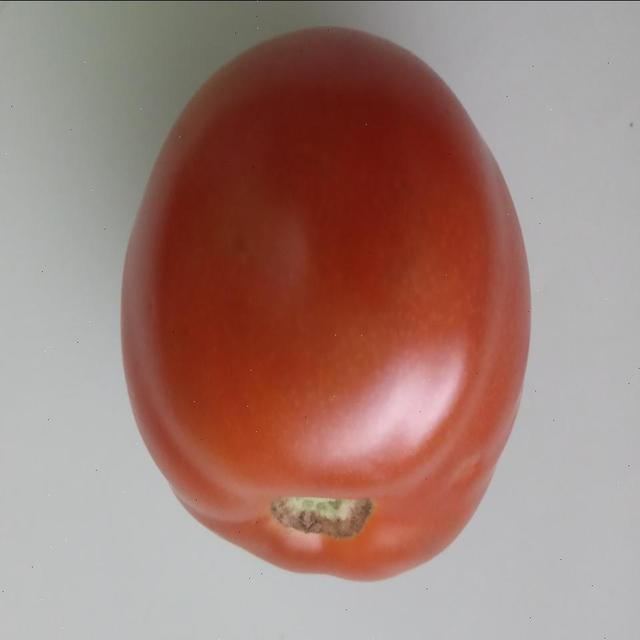Healthy Fruit: (80, 16, 356, 387)
